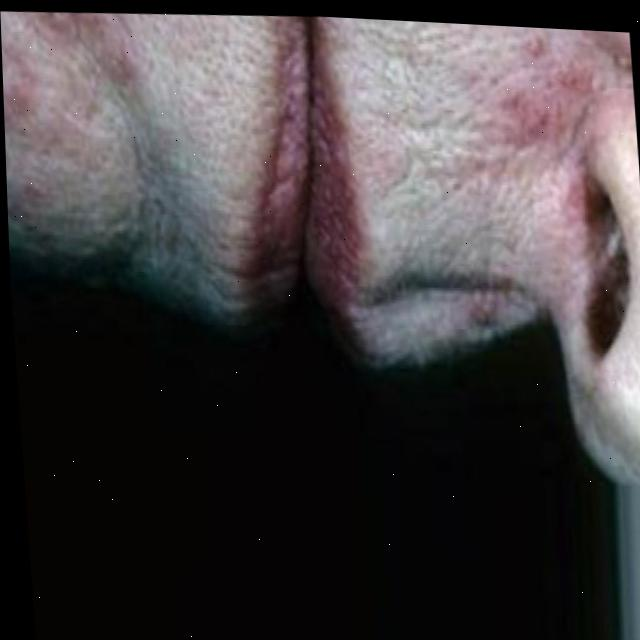Rosacea: (1, 35, 101, 245), (478, 29, 600, 175)
